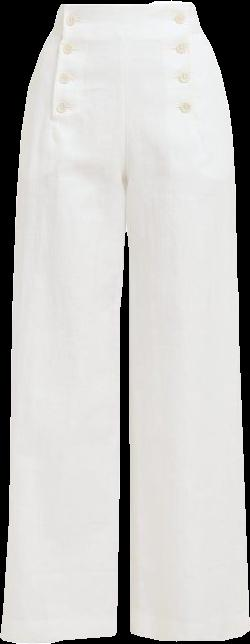Hemline: (127, 622, 249, 643), (0, 628, 119, 643)
Pantleg: (0, 0, 125, 643), (125, 0, 249, 640)
Waistline: (54, 0, 192, 9)
